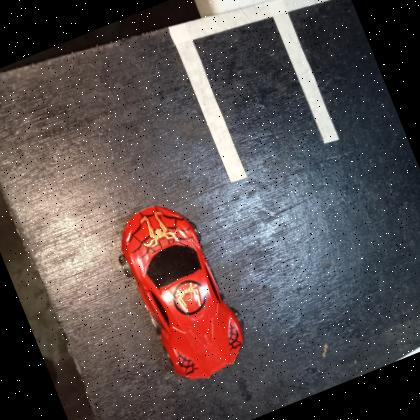Car: (103, 187, 260, 393)
